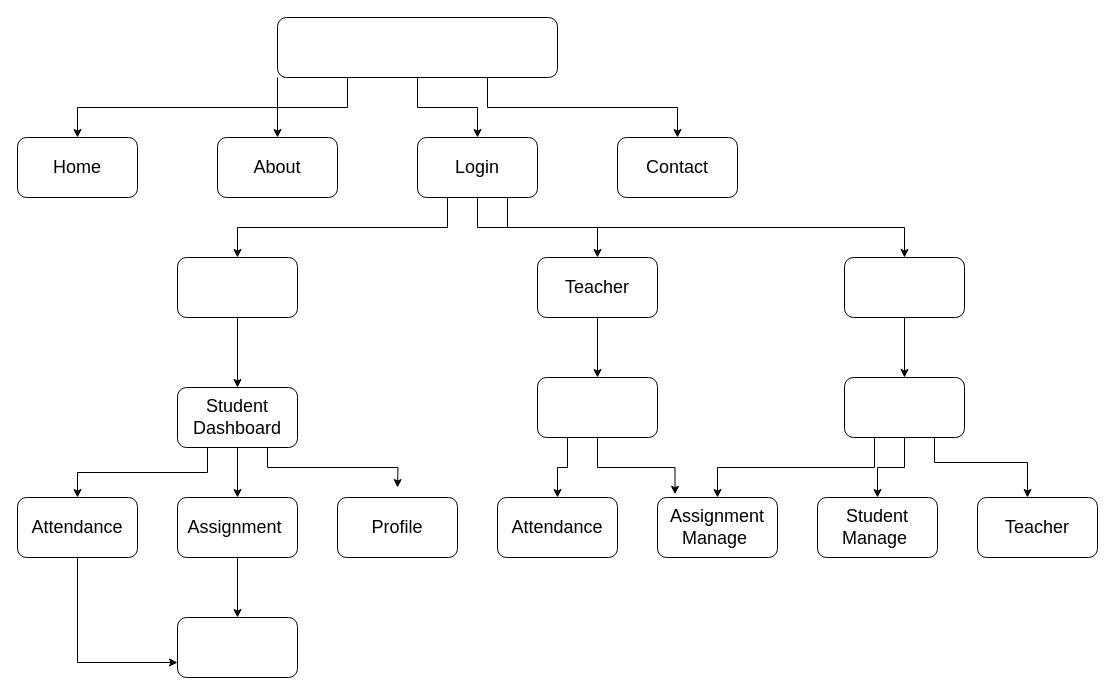
This 1115x695 diagram has some shape labels left out. The centre of each missing label's shape, as x and y in pixels:
Admin: point (904, 287)
Admin Dashboard: point (904, 407)
Notices: point (237, 647)
Student: point (237, 287)
StudentHub: point (417, 47)
Teacher Dashboard: point (597, 407)
